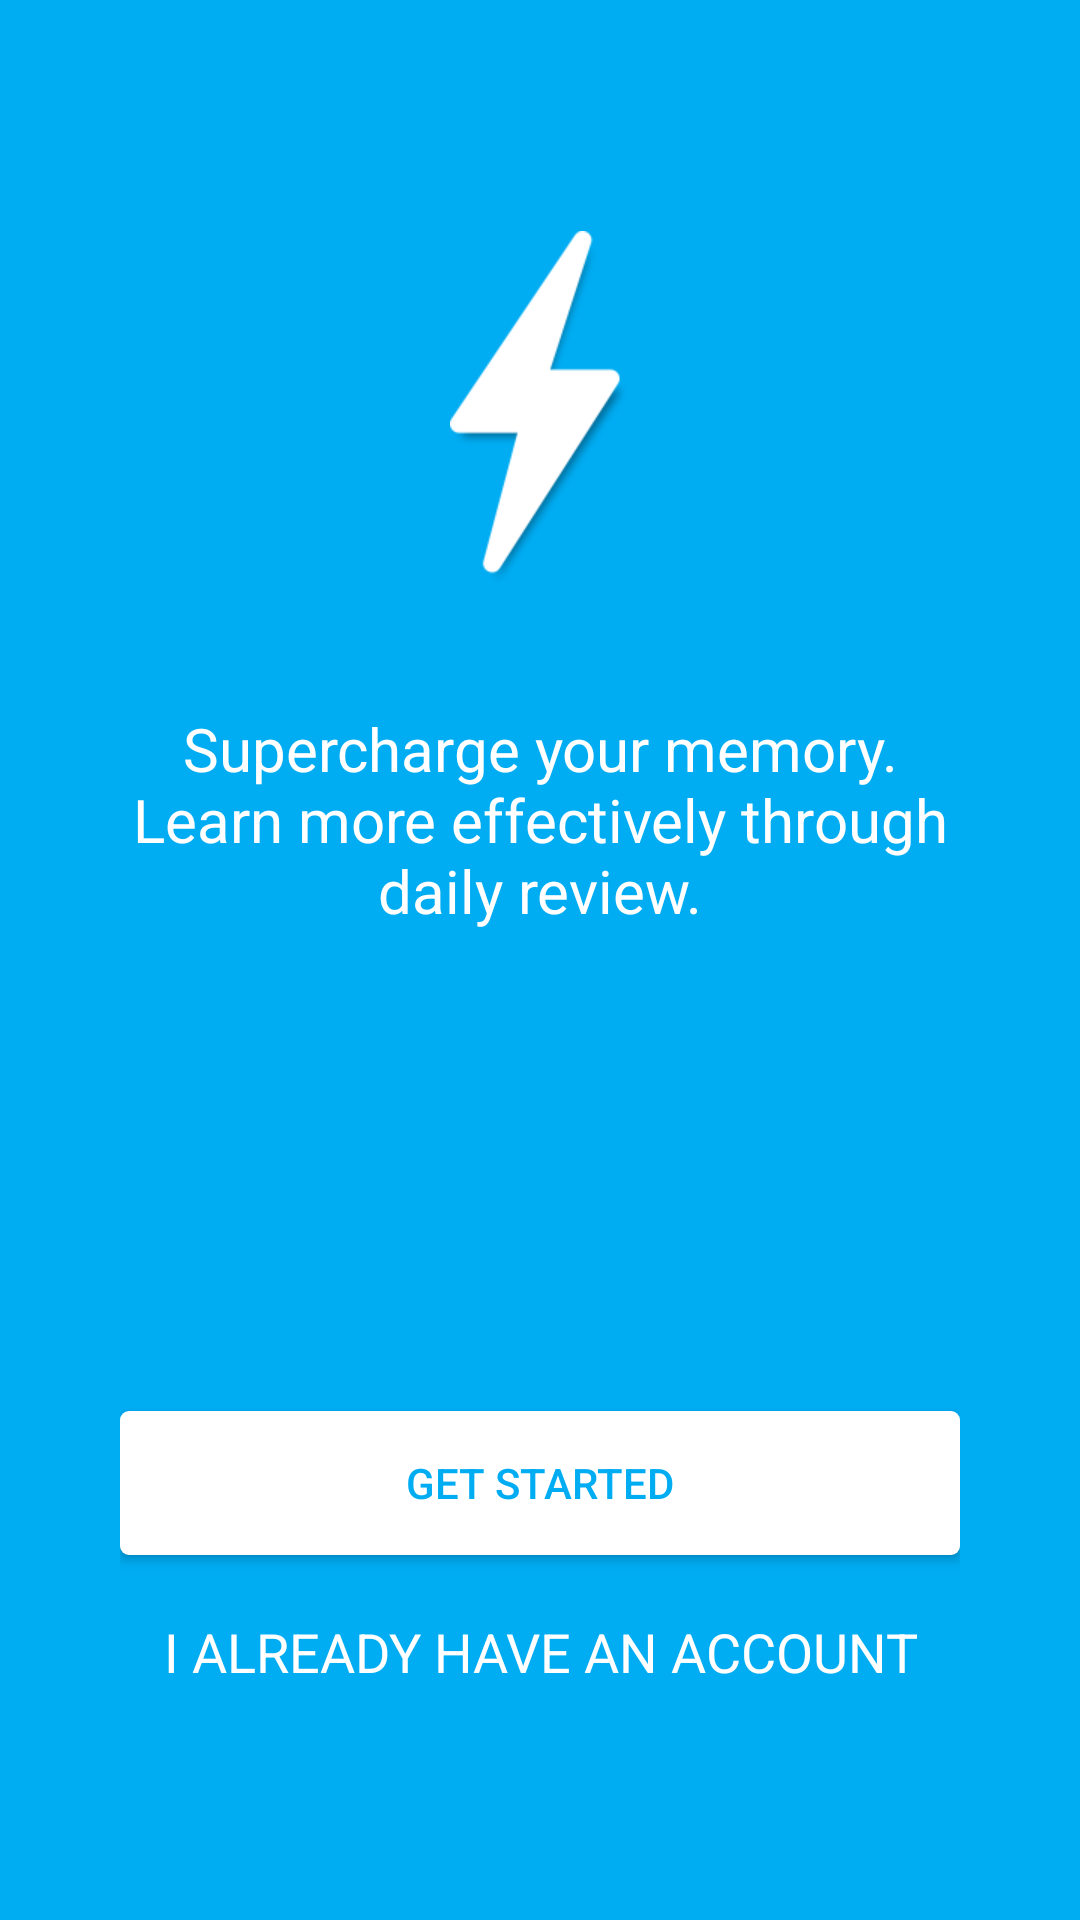

Where icons sit on this 1080w x 1920h app screen, as bbox(x1, y1, x2, y2):
albus bolt: bbox(450, 231, 620, 573)
